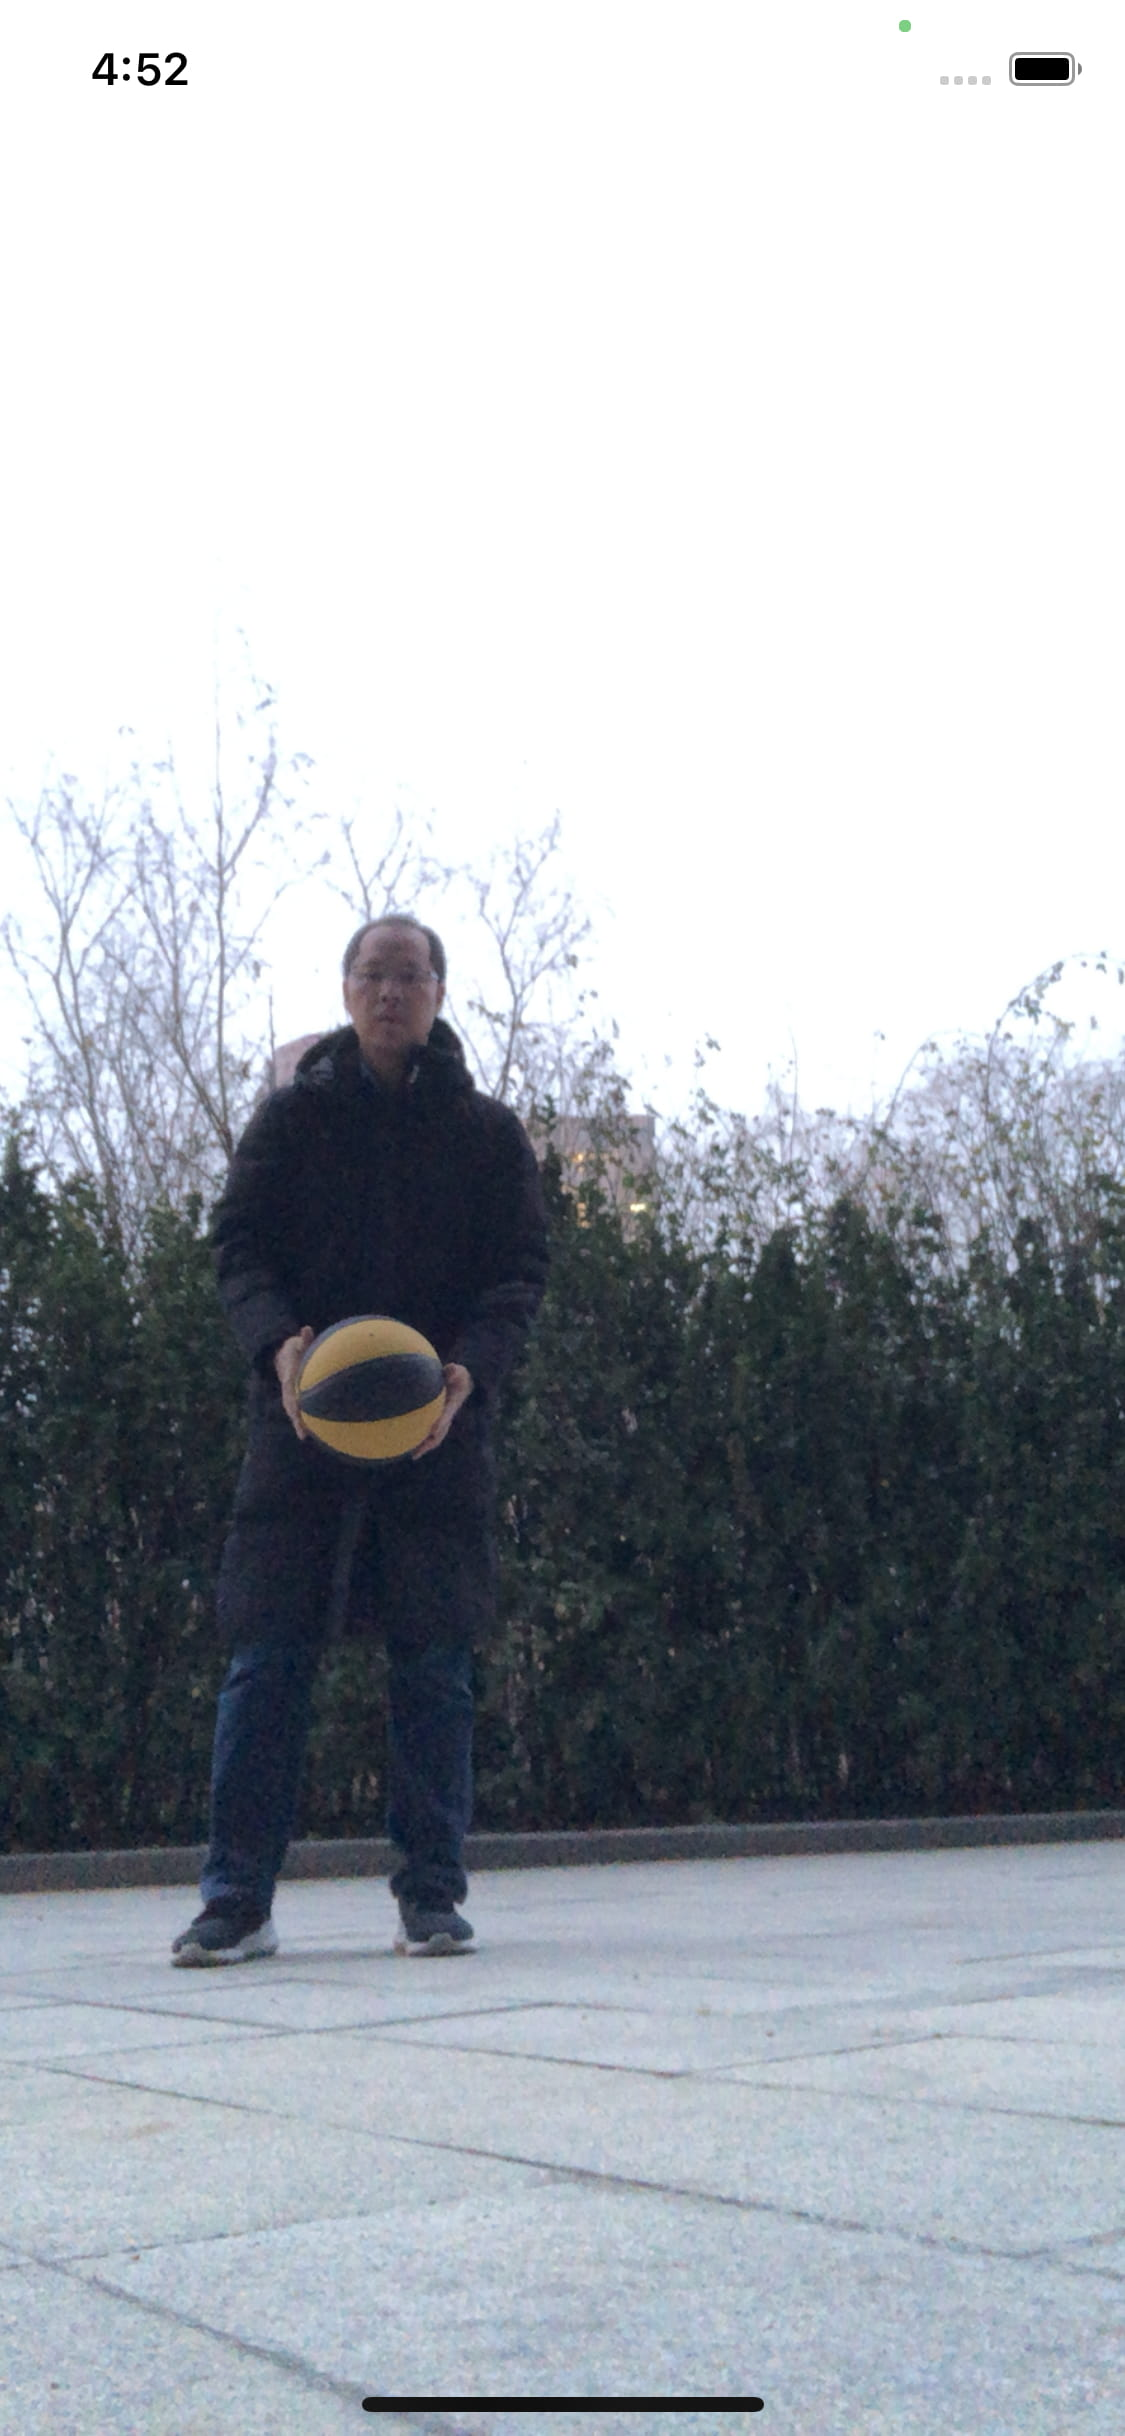ball: (280, 1307, 454, 1467)
